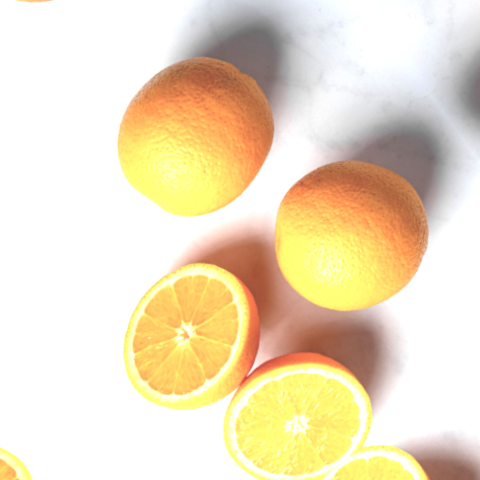orange: (80, 21, 317, 258), (233, 121, 464, 355)
